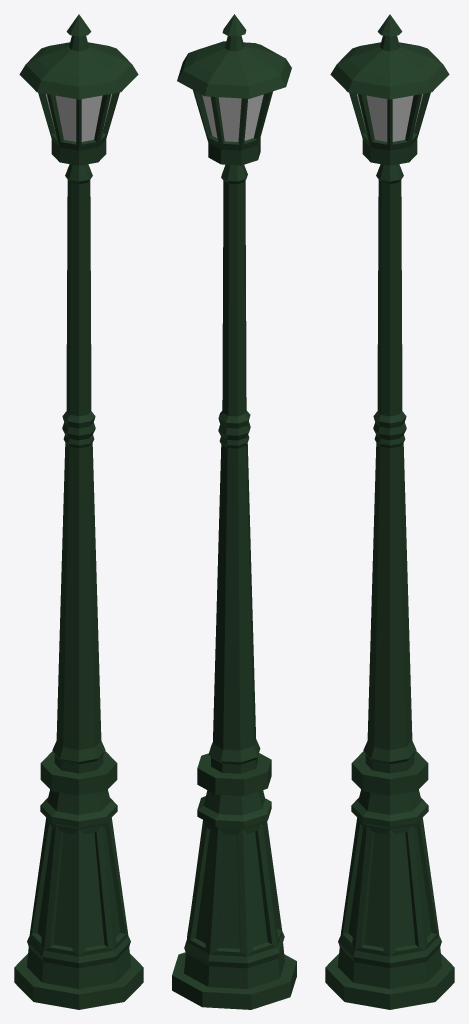
File: Streetlight_Single.glb
3 renders of one model, left to right at view 1: azimuth 90°, elevation 25°; view 2: azimuth 150°, elevation 25°; view 3: azimuth 270°, elevation 25°, orthographic.
Visible parts, largest first — view 1: Streetlight_Single; view 2: Streetlight_Single; view 3: Streetlight_Single.
Part boxes in pixels (x1,y1,x2,y2): Streetlight_Single: (14, 14, 143, 1009); Streetlight_Single: (172, 14, 296, 1009); Streetlight_Single: (325, 14, 454, 1009).
Size of the model in its own units: 0.1317 by 1.09 by 0.1317.
